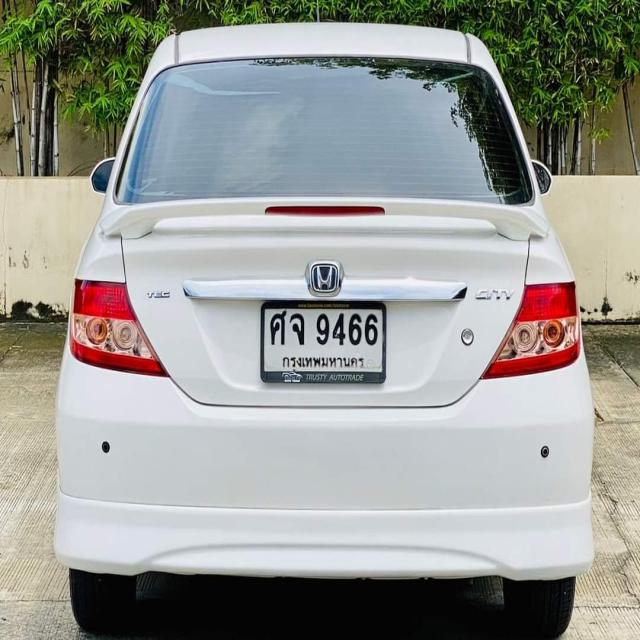license_plate: (259, 299, 386, 387)
